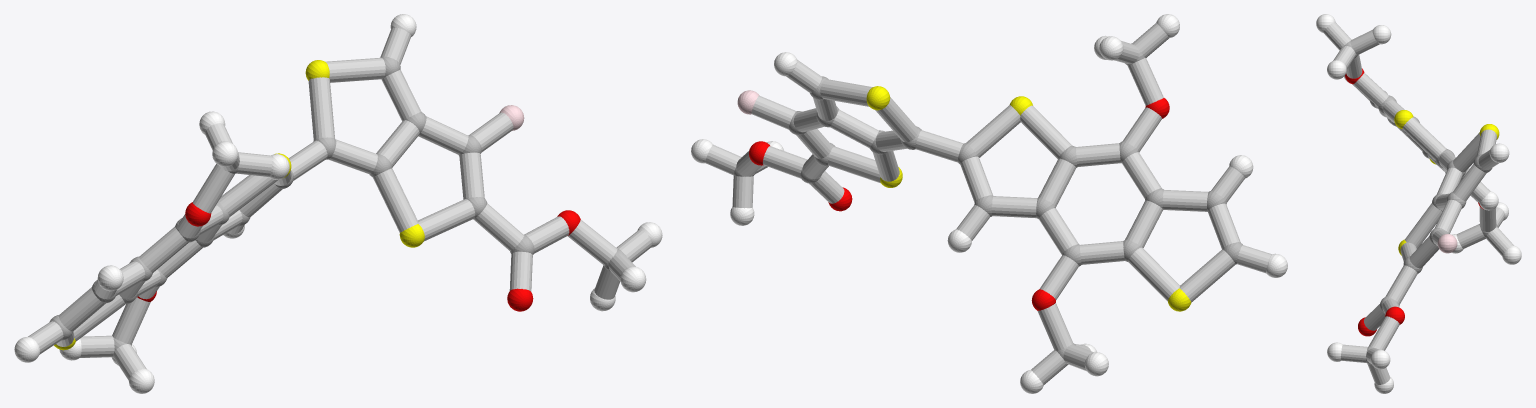
Rendered from Dimethoxy_Benzodithiophene_Phi_5_Theta_100_Methylcarbonyl_3_Fluoro_Thienothiophene.glb.
3 renders of one model, left to right at view 1: azimuth 30°, elevation 25°; view 2: azimuth 150°, elevation 25°; view 3: azimuth 270°, elevation 25°, orthographic. The views are drawn at different scales.
Parts seen in each view (by area): view 1: grp15205, grp8689, grp1, grp13395, grp7241; view 2: grp15205, grp8689, grp1, grp7241, grp13395; view 3: grp15205, grp8689, grp1, grp13395, grp7241, grp14843.
Part boxes in pixels (bbox=[...]): grp15205: bbox=[28, 27, 652, 380]; grp8689: bbox=[14, 14, 662, 393]; grp1: bbox=[49, 56, 625, 357]; grp13395: bbox=[137, 202, 580, 311]; grp7241: bbox=[54, 60, 424, 350]; grp15205: bbox=[705, 23, 1271, 384]; grp8689: bbox=[691, 14, 1287, 393]; grp1: bbox=[733, 43, 1242, 364]; grp7241: bbox=[866, 86, 1191, 311]; grp13395: bbox=[749, 98, 1169, 310]; grp15205: bbox=[1323, 22, 1513, 384]; grp8689: bbox=[1316, 14, 1521, 393]; grp1: bbox=[1343, 41, 1497, 364]; grp13395: bbox=[1345, 68, 1483, 336]; grp7241: bbox=[1394, 110, 1499, 255]; grp14843: bbox=[1437, 234, 1457, 253].
Bounding box in the file's own units: 17.03 × 8.11 × 6.28.
